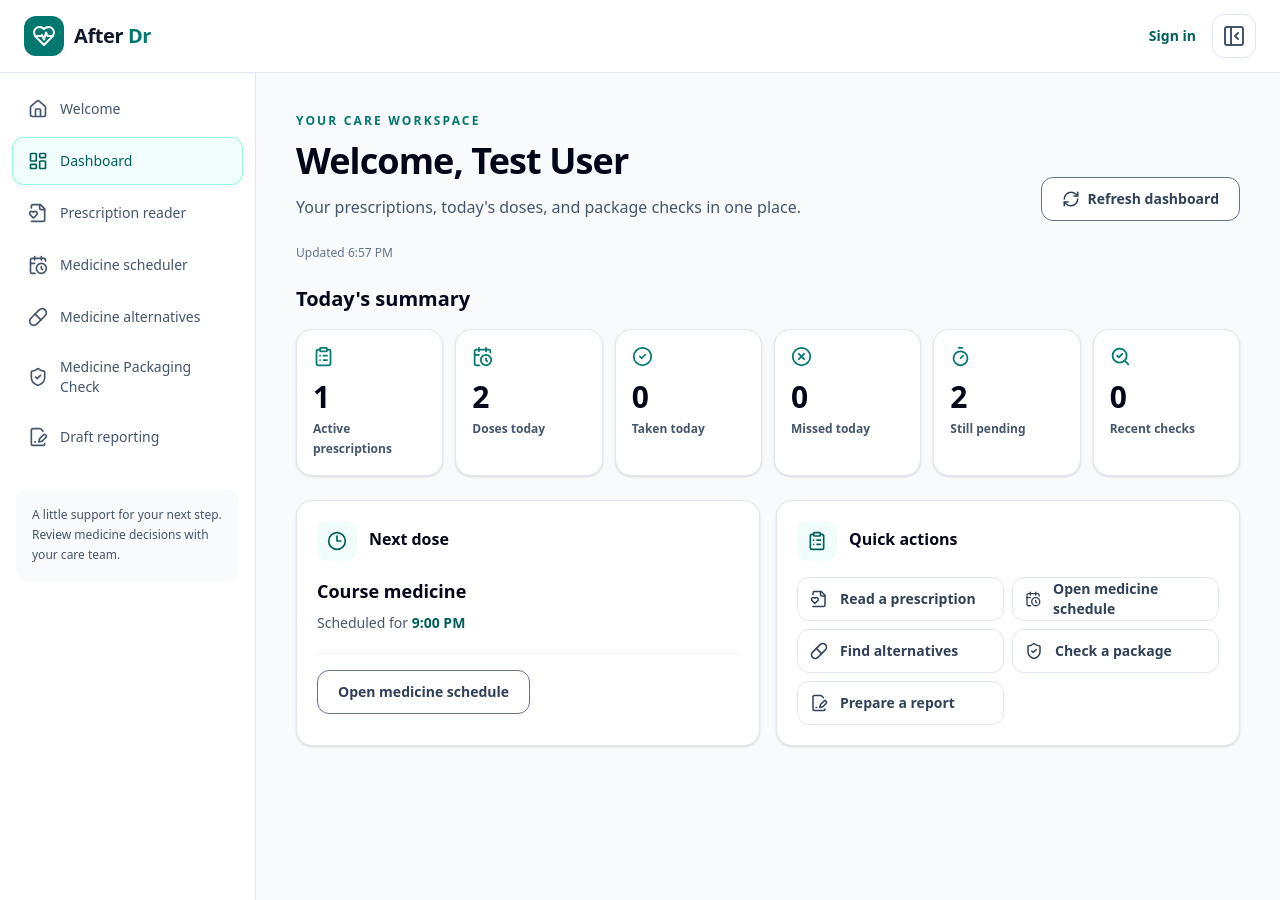
it: refreshes dashboard totals without requiring a page reload
Expected: the link with aria-label "Taken today: 0" is shown, [615,329,762,476]
Click the button "Refresh dashboard" at [1140, 199], box [1040,177,1240,221]
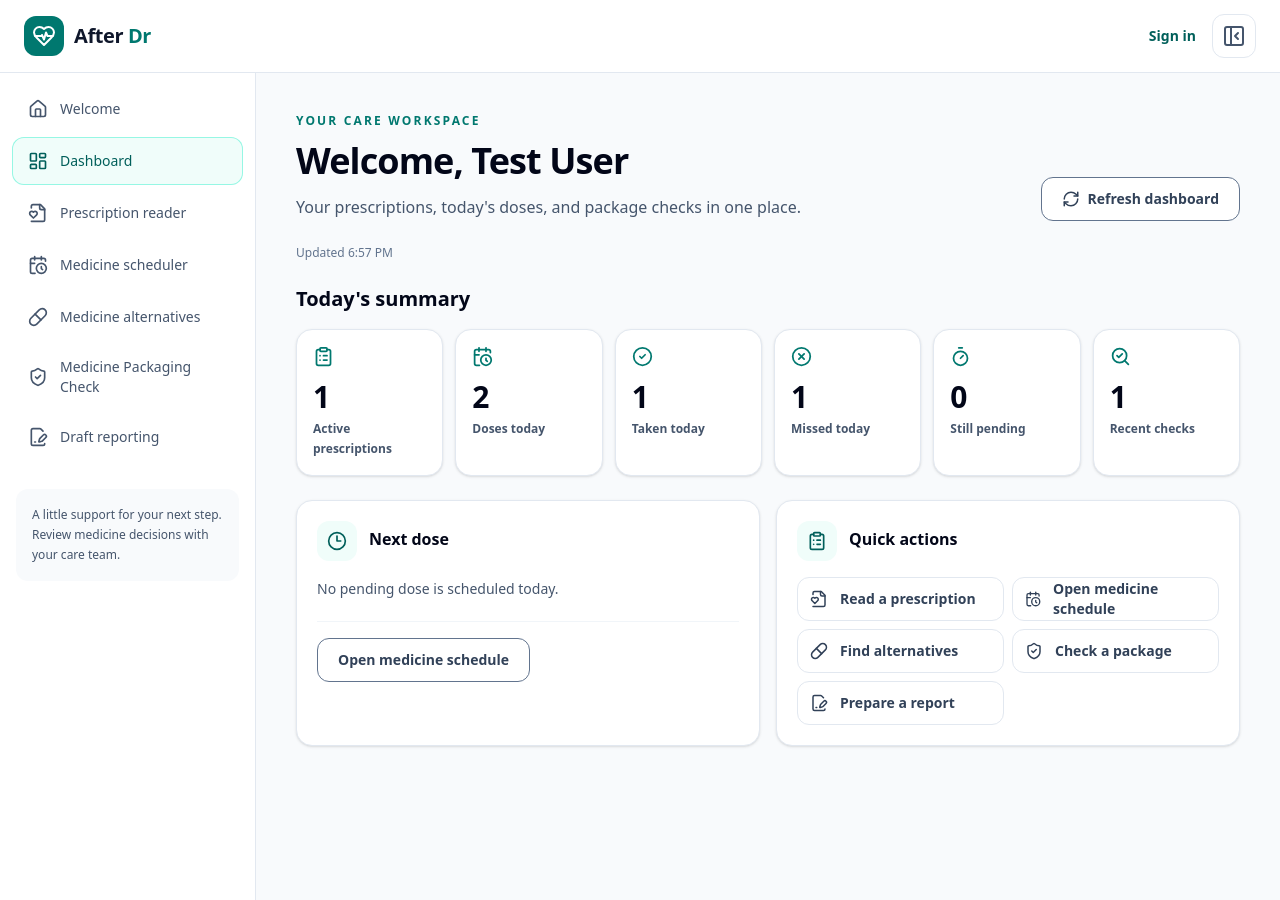
Expected: the link with aria-label "Taken today: 1" is shown, [615,329,762,476]
Expected: the link with aria-label "Missed today: 1" is shown, [774,329,921,476]
Expected: the link with aria-label "Still pending: 0" is shown, [933,329,1081,476]
